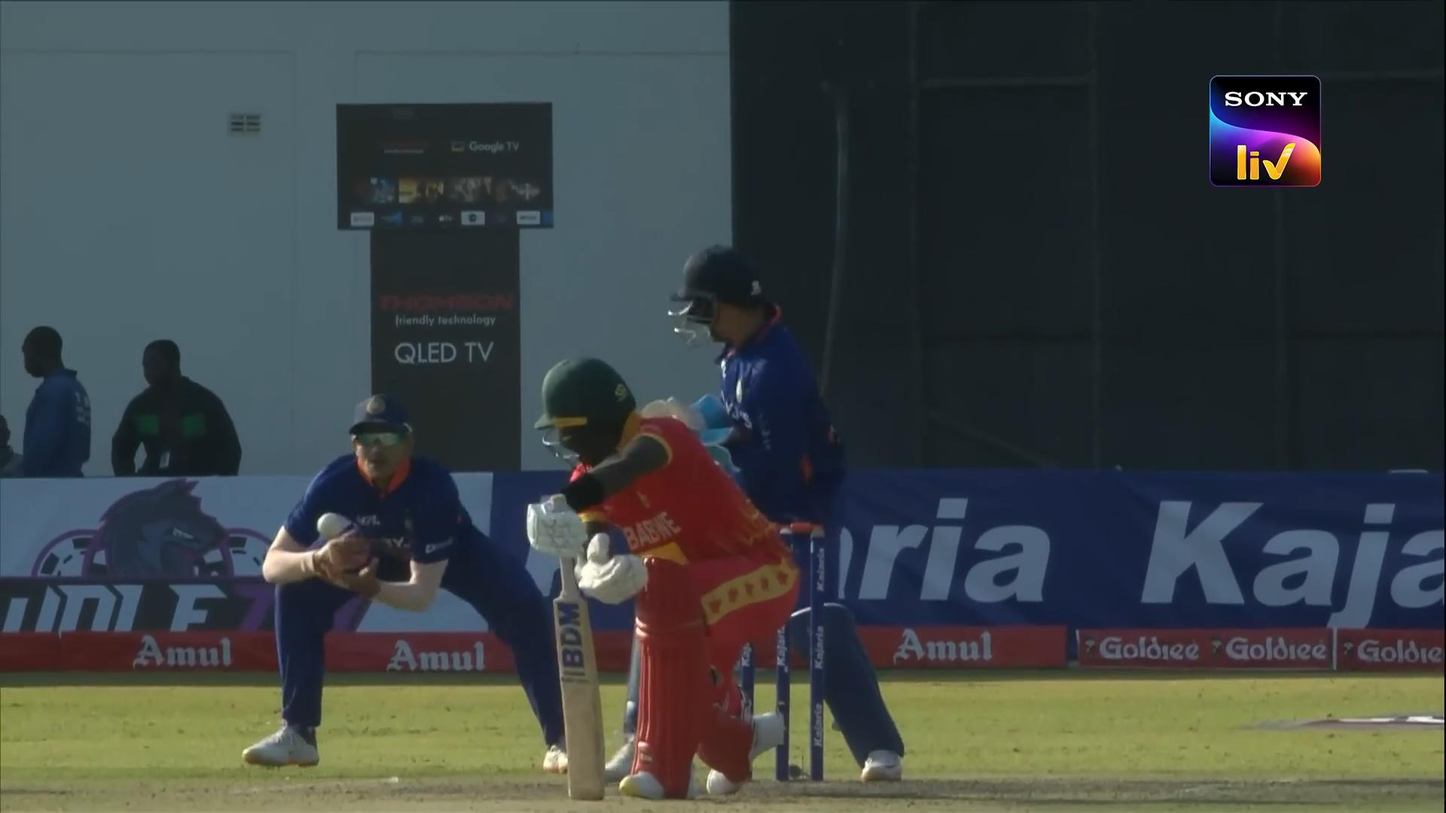batsman: (527, 355, 799, 799)
